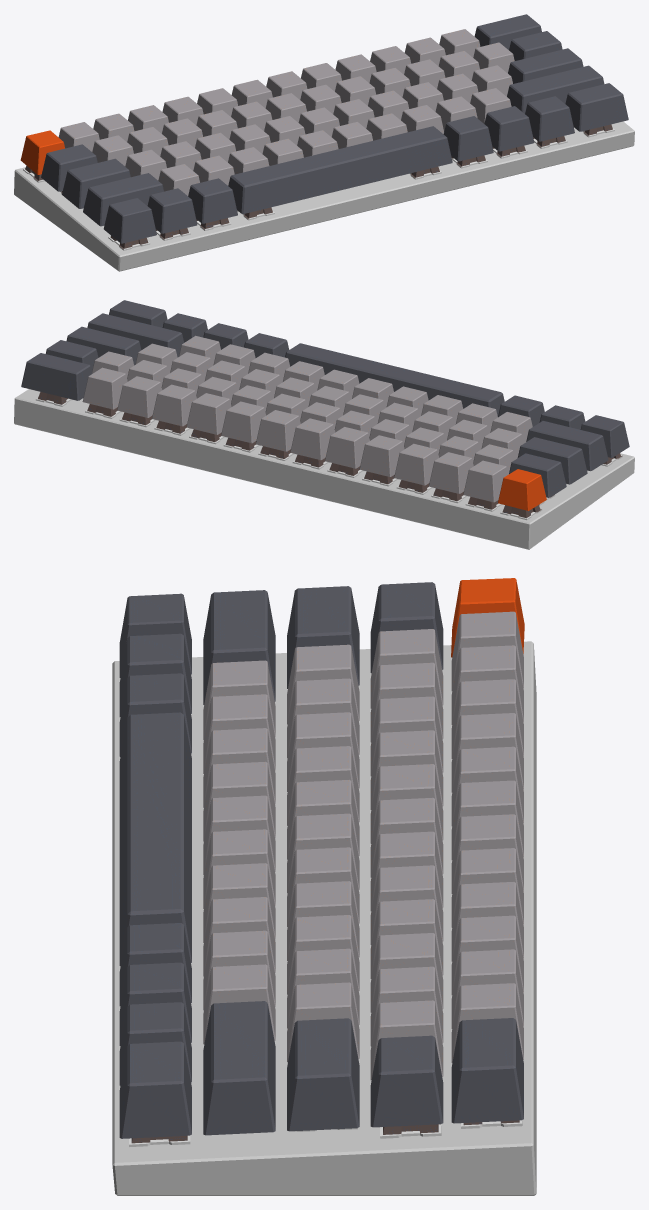
File: keyboard-transformed.glb
3 renders of one model, top to bottom at view 1: azimuth 30°, elevation 25°; view 2: azimuth 150°, elevation 25°; view 3: azimuth 270°, elevation 25°, orthographic. The views are drawn at different scales.
Visible parts, largest first — view 1: plate, Space, ControlRight, ShiftRight, ShiftLeft, ControlLeft, CapsLock, AltRight, fn1, fn2, AltLeft, MetaLeft (+50 smaller); view 2: plate, Space, Cube.026, Backspace, ShiftRight, ShiftLeft, CapsLock, Escape, Enter, Digit0, Digit4, Digit7 (+51 smaller); view 3: plate, Space, ShiftRight, Enter, Backspace, ControlRight, Backslash, ShiftLeft, CapsLock, Tab, ControlLeft, AltRight (+50 smaller).
Boxes of the visible parts, <box> form: plate: <box>14,121,634,271</box>; Space: <box>228,126,452,213</box>; ControlRight: <box>565,83,628,131</box>; ShiftRight: <box>507,65,604,113</box>; ShiftLeft: <box>83,173,163,226</box>; ControlLeft: <box>103,198,156,243</box>; CapsLock: <box>62,158,130,208</box>; AltRight: <box>443,116,493,161</box>; fn1: <box>484,106,534,151</box>; fn2: <box>525,96,574,141</box>; AltLeft: <box>188,178,237,223</box>; MetaLeft: <box>147,188,197,233</box>; plate: <box>14,389,634,549</box>; Space: <box>285,343,504,416</box>; Cube.026: <box>85,404,542,520</box>; Backspace: <box>21,353,92,400</box>; ShiftRight: <box>87,313,184,357</box>; ShiftLeft: <box>526,421,608,471</box>; CapsLock: <box>517,437,587,484</box>; Escape: <box>498,469,546,510</box>; Enter: <box>66,326,141,365</box>; Digit0: <box>152,384,196,426</box>; Digit4: <box>359,435,404,476</box>; Digit7: <box>255,410,300,451</box>; plate: <box>112,641,536,1195</box>; Space: <box>119,712,191,966</box>; ShiftRight: <box>203,1001,275,1135</box>; Enter: <box>287,1018,359,1131</box>; Backspace: <box>451,1018,523,1123</box>; ControlRight: <box>119,1041,191,1138</box>; Backslash: <box>370,1035,443,1127</box>; ShiftLeft: <box>203,590,275,704</box>; CapsLock: <box>287,586,359,688</box>; Tab: <box>370,582,443,673</box>; ControlLeft: <box>119,593,191,677</box>; AltRight: <box>119,923,191,1006</box>.
Bounding box in the file's own units: 0.2133 × 0.0243 × 0.0759.
1 material, 1 textured.
